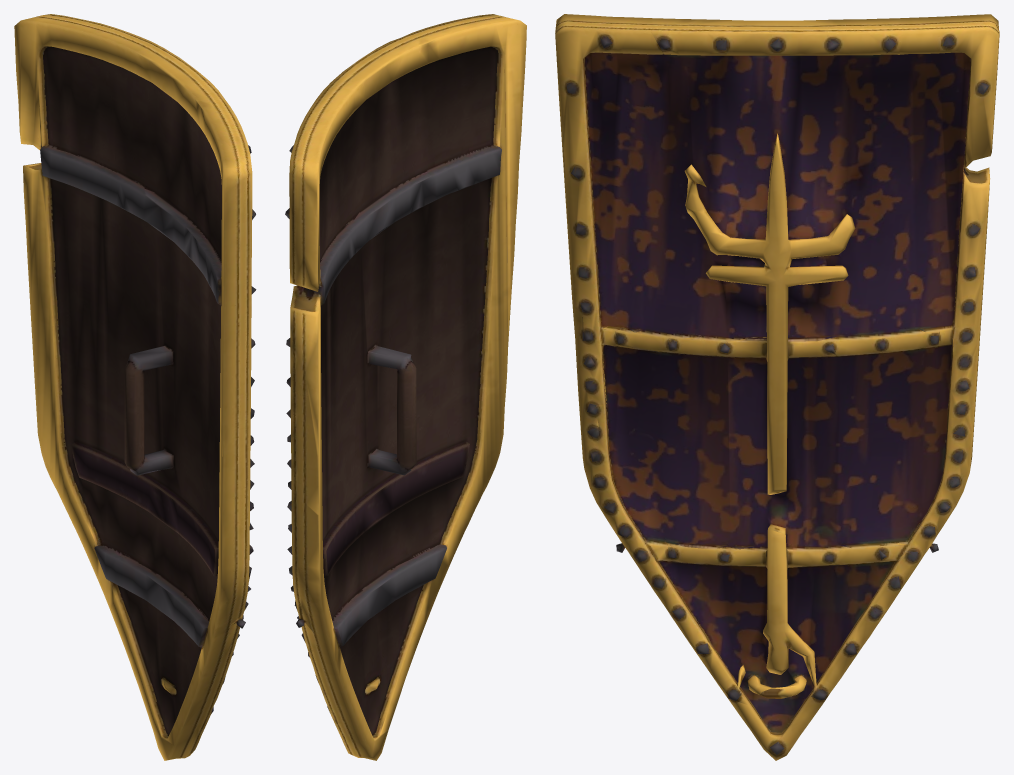
Rendered from boss_captain_shield_oxide.glb.
3 views of the same model, side by side, from view 1: azimuth 30°, elevation 25°; view 2: azimuth 150°, elevation 25°; view 3: azimuth 270°, elevation 25° (orthographic). The views are drawn at different scales.
Visible parts, largest first — view 1: boss_captain_shield_oxide; view 2: boss_captain_shield_oxide; view 3: boss_captain_shield_oxide.
Boxes of the visible parts, x1,y1,x2,y2 form: boss_captain_shield_oxide: (14,14,256,760); boss_captain_shield_oxide: (285,14,526,760); boss_captain_shield_oxide: (555,14,999,760).
Size of the model in its own units: 0.2104 by 1.54 by 0.8488.
1 material, 1 textured.
